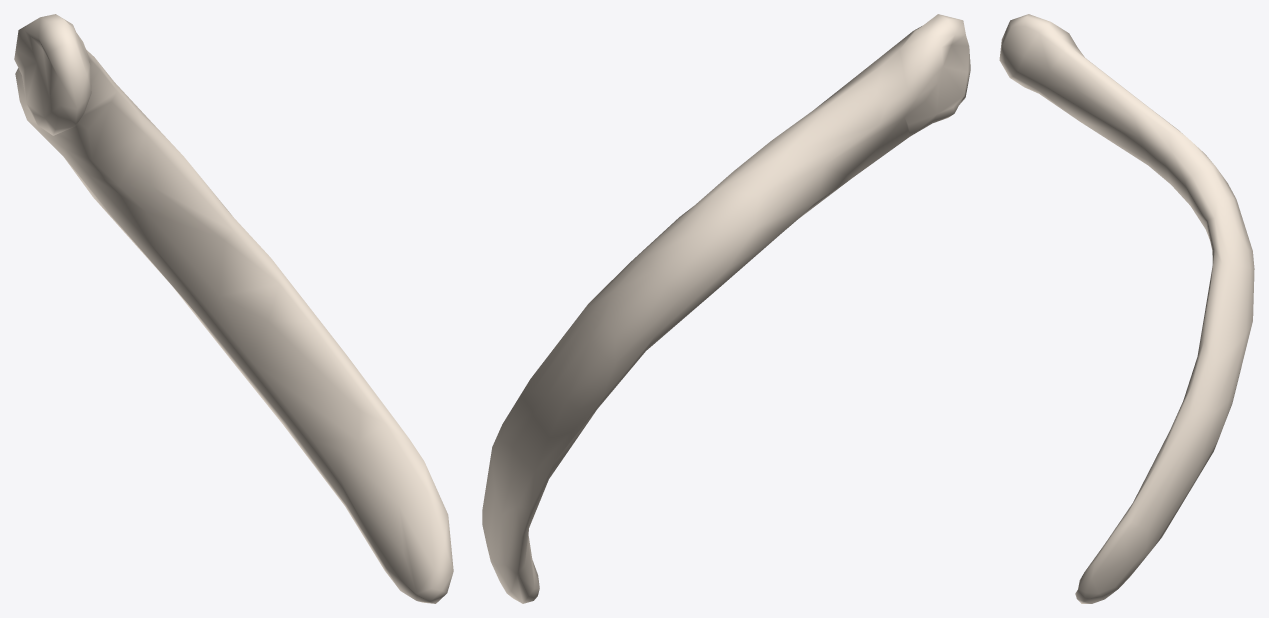
File: left_rib_12.glb
3 renders of one model, left to right at view 1: azimuth 30°, elevation 25°; view 2: azimuth 150°, elevation 25°; view 3: azimuth 270°, elevation 25°, orthographic. The views are drawn at different scales.
Parts seen in each view (by area): view 1: Rib (12th).r; view 2: Rib (12th).r; view 3: Rib (12th).r.
Boxes of the visible parts, bbox=[...] form: Rib (12th).r: bbox=[14, 14, 453, 603]; Rib (12th).r: bbox=[482, 14, 970, 603]; Rib (12th).r: bbox=[999, 14, 1254, 603].
Bounding box in the file's own units: 0.0481 × 0.0716 × 0.036.
